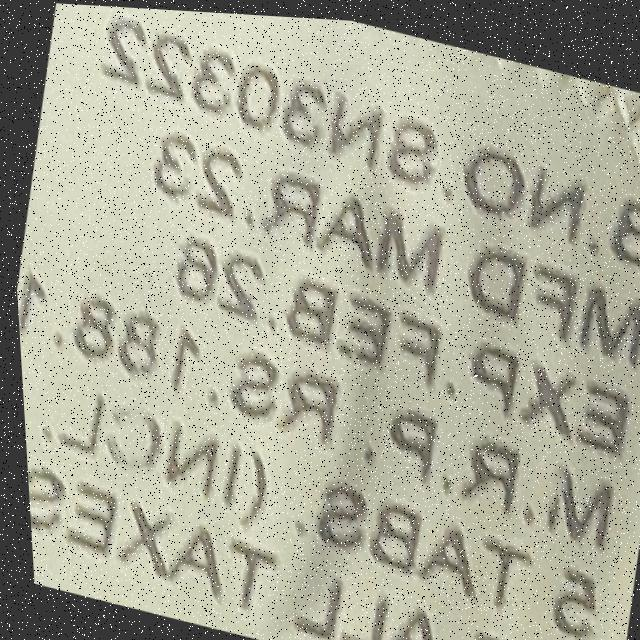sentence: (13, 268, 608, 542), (38, 390, 590, 634), (99, 15, 640, 261), (151, 132, 640, 358), (174, 240, 625, 449), (22, 467, 508, 640)
